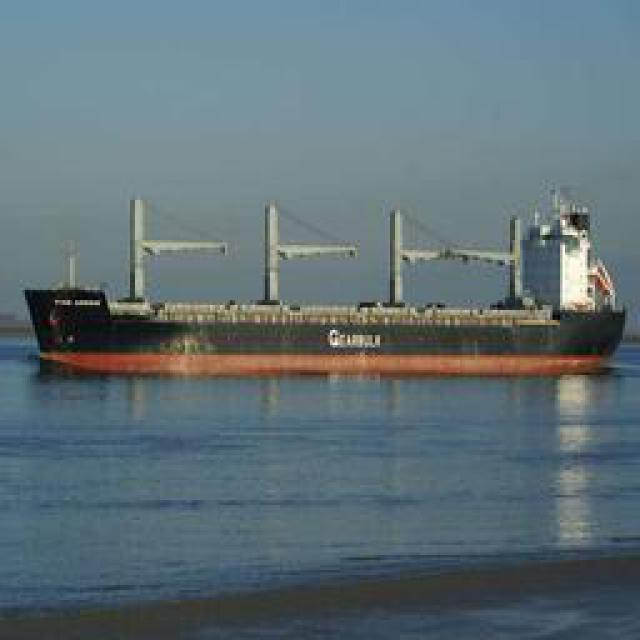Ship: (22, 184, 620, 379)
